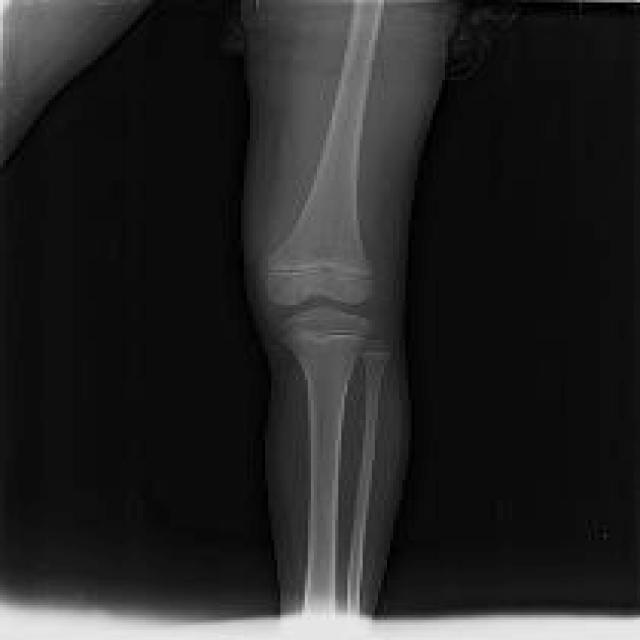normal: (264, 0, 384, 309), (278, 311, 372, 616), (347, 343, 390, 614)
